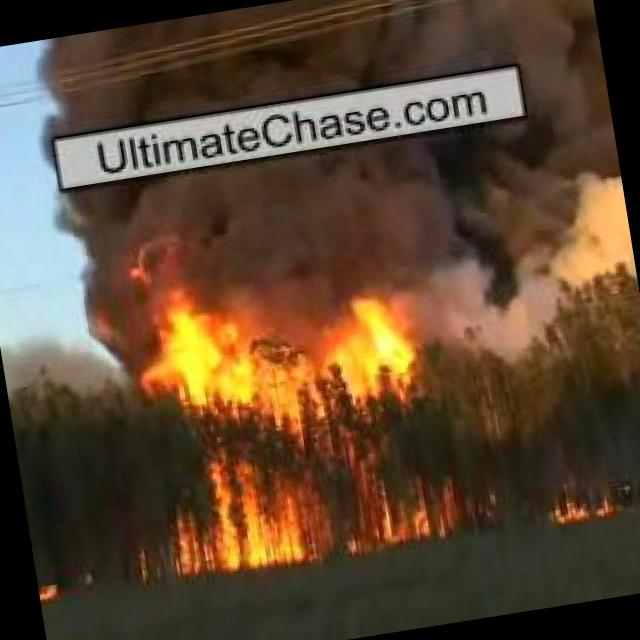Fire: (152, 250, 460, 576), (540, 490, 619, 526)
Smoke: (41, 110, 634, 392), (35, 0, 599, 126)
